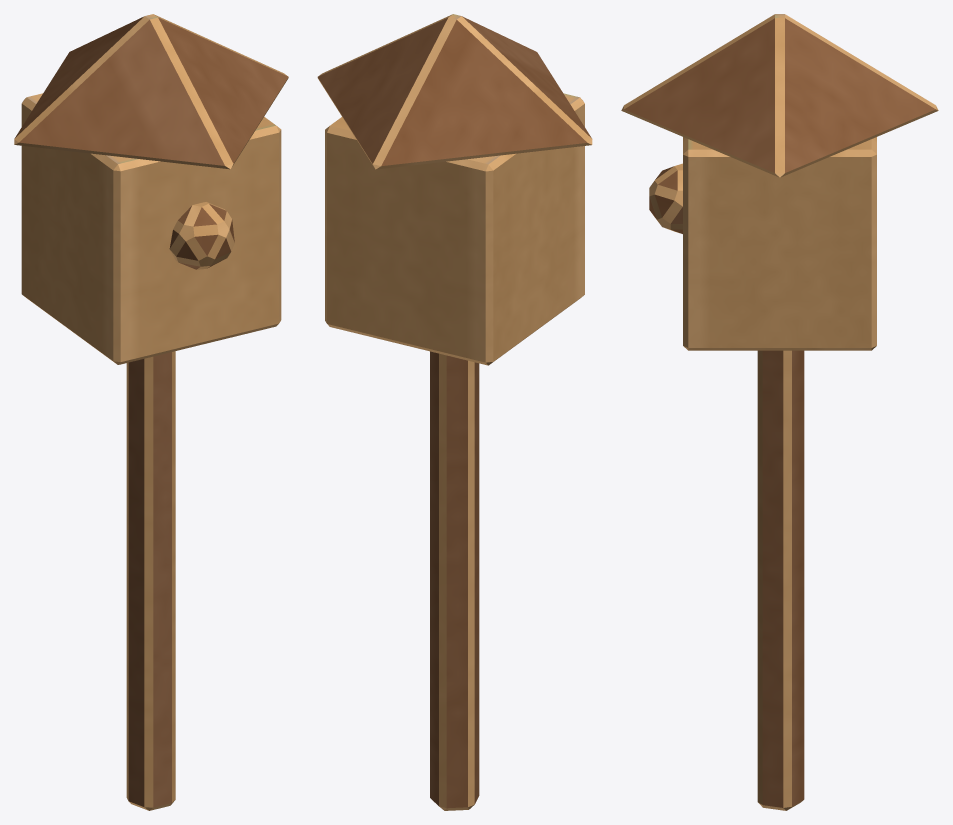
The model's file is sm_prop_birdhouse.glb.
3 renders of one model, left to right at view 1: azimuth 30°, elevation 25°; view 2: azimuth 150°, elevation 25°; view 3: azimuth 270°, elevation 25°, orthographic.
Visible parts, largest first — view 1: sm_prop_birdhouse; view 2: sm_prop_birdhouse; view 3: sm_prop_birdhouse.
Part boxes in pixels (bbox=[...]): sm_prop_birdhouse: bbox=[14, 14, 288, 810]; sm_prop_birdhouse: bbox=[317, 14, 592, 810]; sm_prop_birdhouse: bbox=[621, 14, 938, 810].
Bounding box in the file's own units: 0.2287 × 0.6253 × 0.2287.
Materials: 1 (1 with a texture image).
